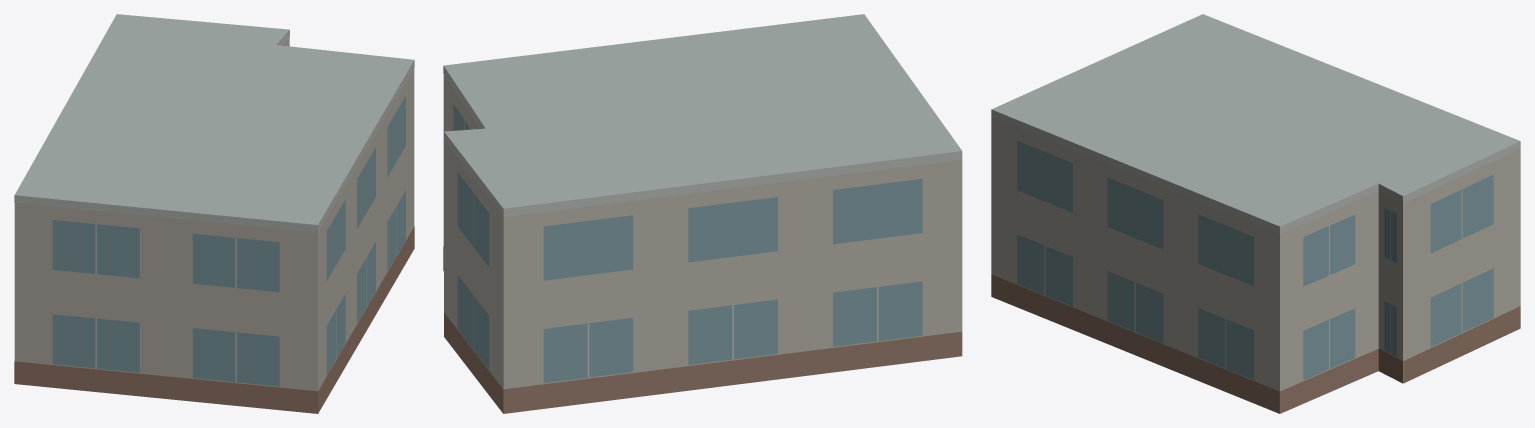
The model's file is survey-upis-32849217.glb.
The picture shows the model from 3 angles, left to right: view 1: azimuth 30°, elevation 25°; view 2: azimuth 150°, elevation 25°; view 3: azimuth 270°, elevation 25°; orthographic projection. The views are drawn at different scales.
Parts seen in each view (by area): view 1: survey-upis-32849217.tmp; view 2: survey-upis-32849217.tmp; view 3: survey-upis-32849217.tmp.
Boxes of the visible parts, box(x1,y1,x2,y2) form: survey-upis-32849217.tmp: box(14, 14, 414, 413); survey-upis-32849217.tmp: box(443, 14, 962, 413); survey-upis-32849217.tmp: box(991, 14, 1520, 413).
Bounding box in the file's own units: 14.84 × 6.1 × 15.62.
